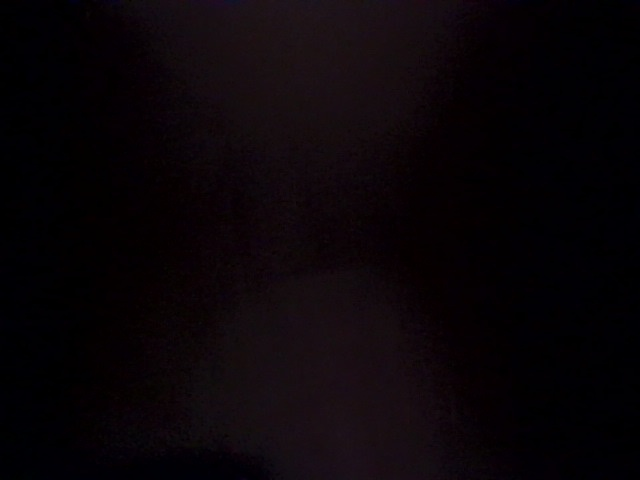KHSLJ: (155, 110, 640, 460)
